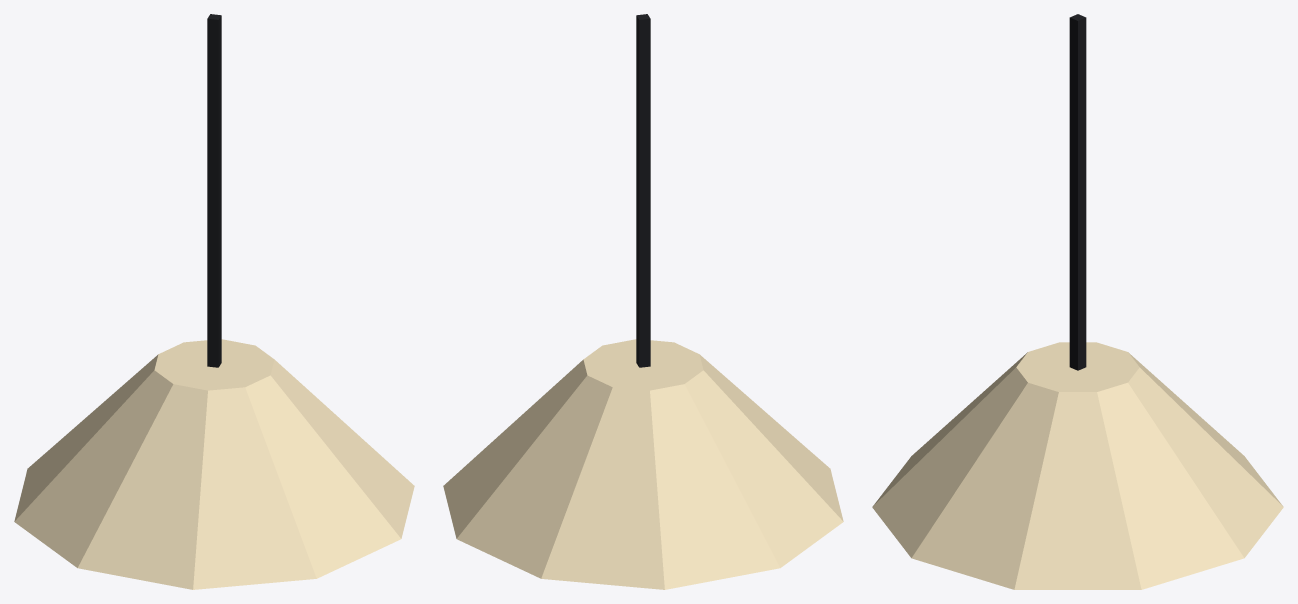
The model's file is ceilingLamp.fbx.
3 views of the same model, side by side, from view 1: azimuth 30°, elevation 25°; view 2: azimuth 150°, elevation 25°; view 3: azimuth 270°, elevation 25° (orthographic).
Parts seen in each view (by area): view 1: ceilingLamp; view 2: ceilingLamp; view 3: ceilingLamp.
Boxes of the visible parts, x1,y1,x2,y2 form: ceilingLamp: [14, 14, 414, 589]; ceilingLamp: [443, 14, 843, 589]; ceilingLamp: [872, 14, 1283, 589].
Size of the model in its own units: 1.52 by 2.2 by 1.6.
